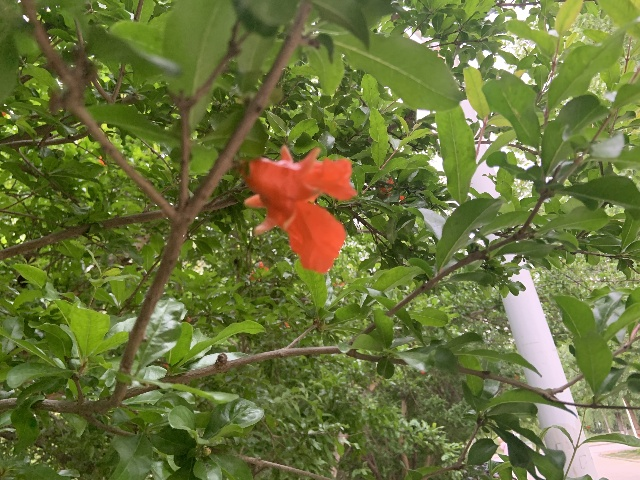flower: (242, 143, 357, 272), (379, 177, 393, 195)
